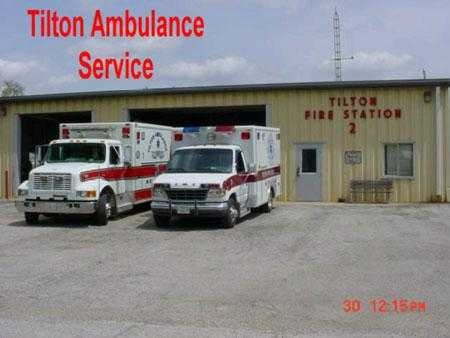Ambulance: (20, 114, 154, 218), (162, 126, 285, 222)
